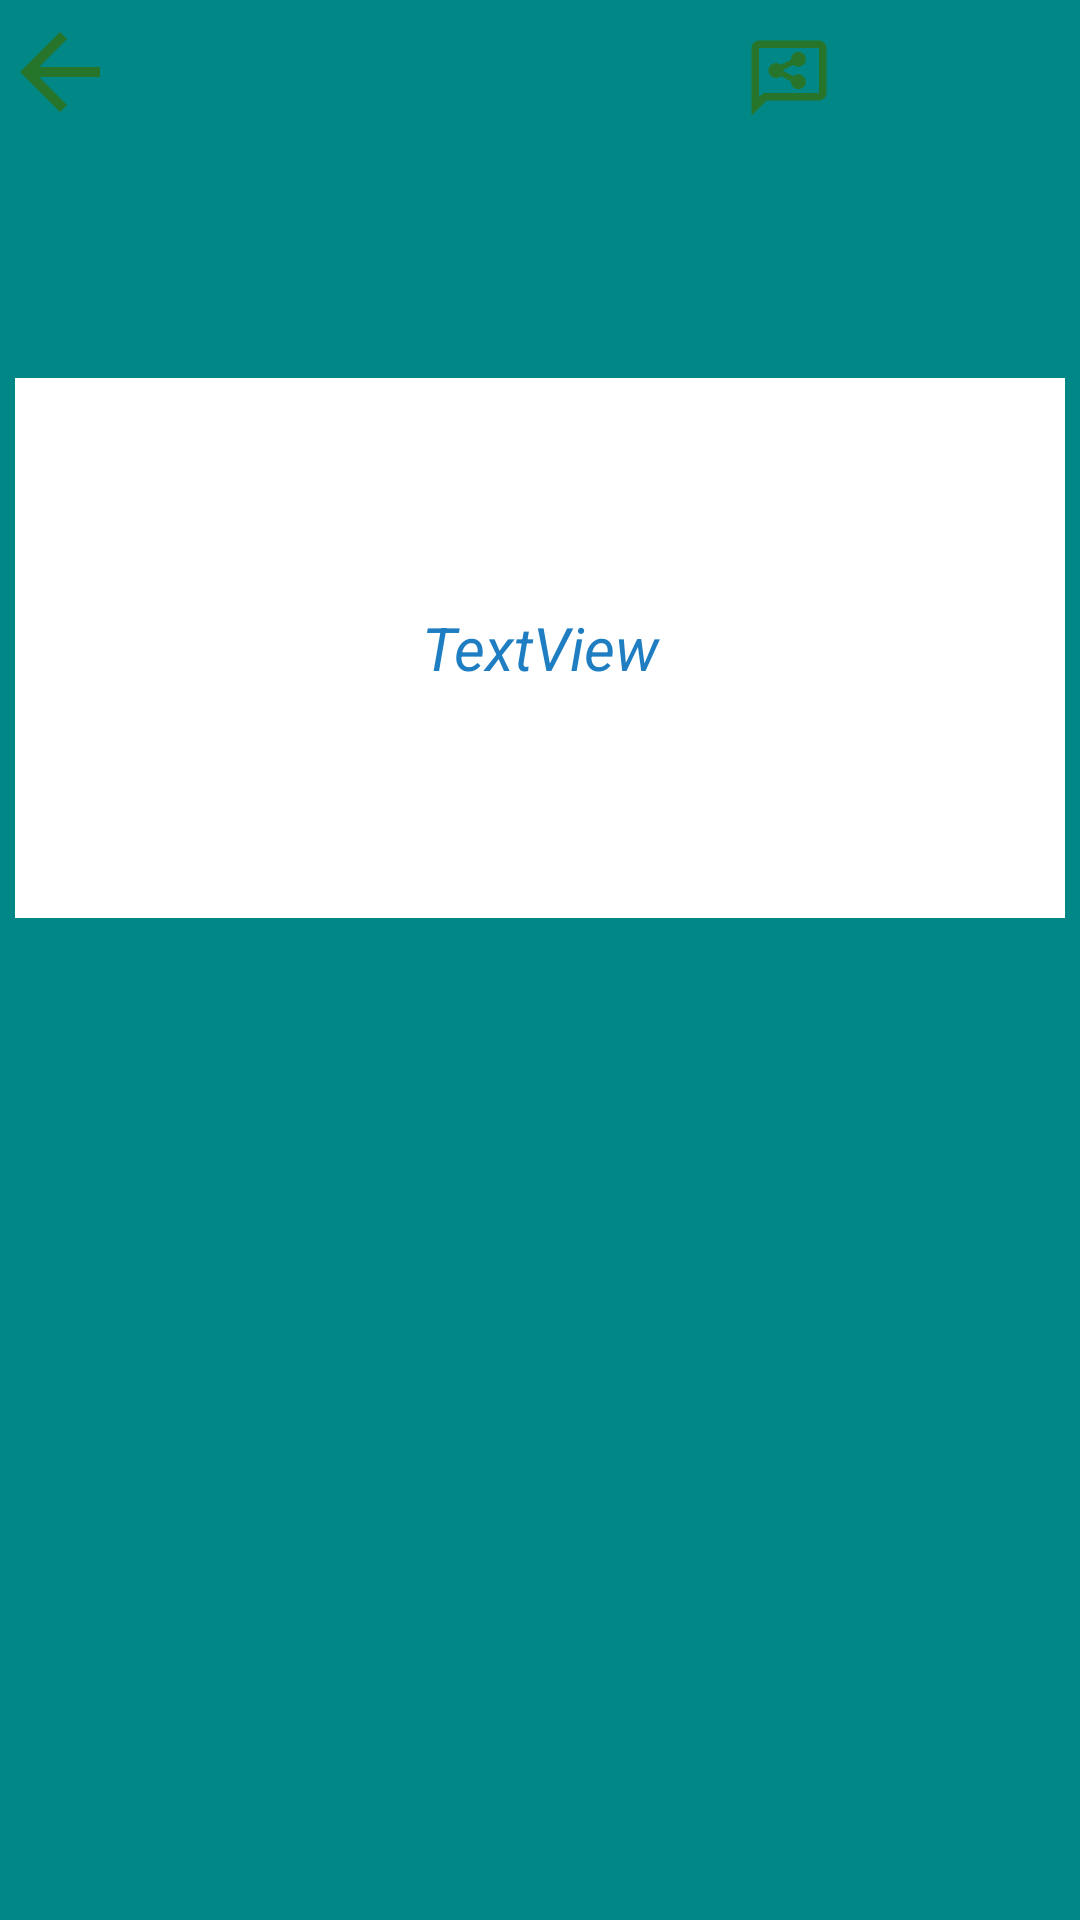

Icon click points for this 1080px x 1920px phone screenshot, format point (x, y):
arrow back: point (60, 72)
share reviews: point (789, 77)
